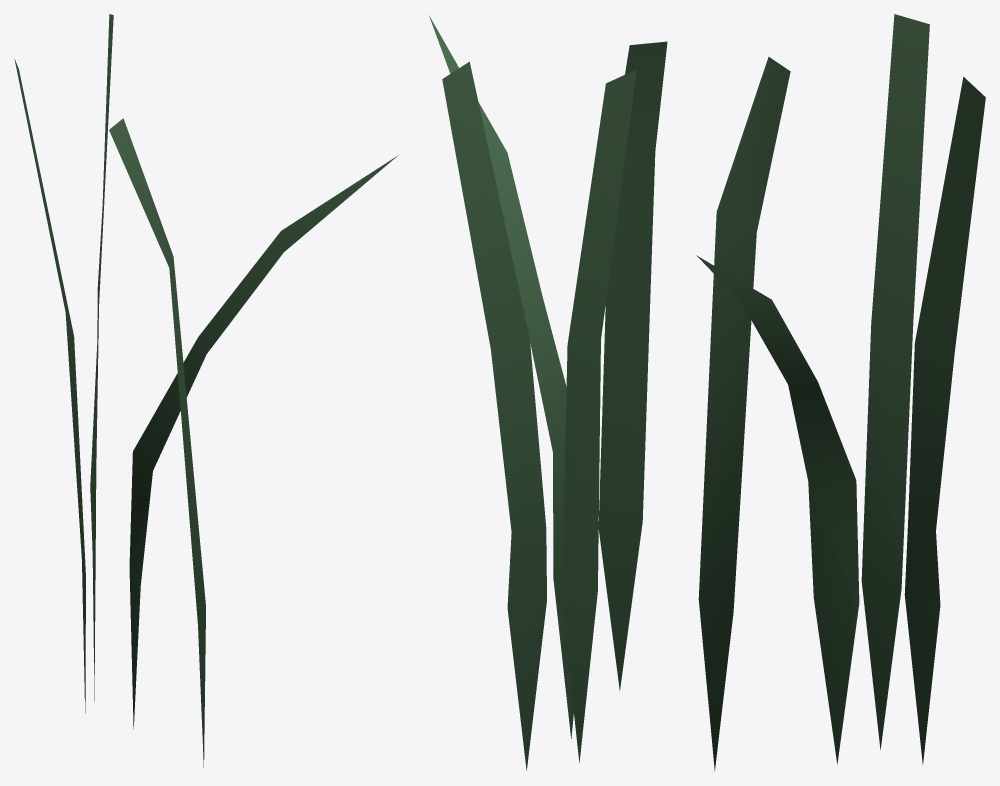
Rendered from trees-grasses-tall-grass_v8.glb.
3 renders of one model, left to right at view 1: azimuth 30°, elevation 25°; view 2: azimuth 150°, elevation 25°; view 3: azimuth 270°, elevation 25°, orthographic. The views are drawn at different scales.
Parts seen in each view (by area): view 1: Tall Grass_v8; view 2: Tall Grass_v8; view 3: Tall Grass_v8.
Boxes of the visible parts, x1,y1,x2,y2 form: Tall Grass_v8: (14, 14, 398, 767); Tall Grass_v8: (429, 15, 667, 770); Tall Grass_v8: (696, 14, 985, 771).
Size of the model in its own units: 0.2255 by 0.5 by 0.1857.
